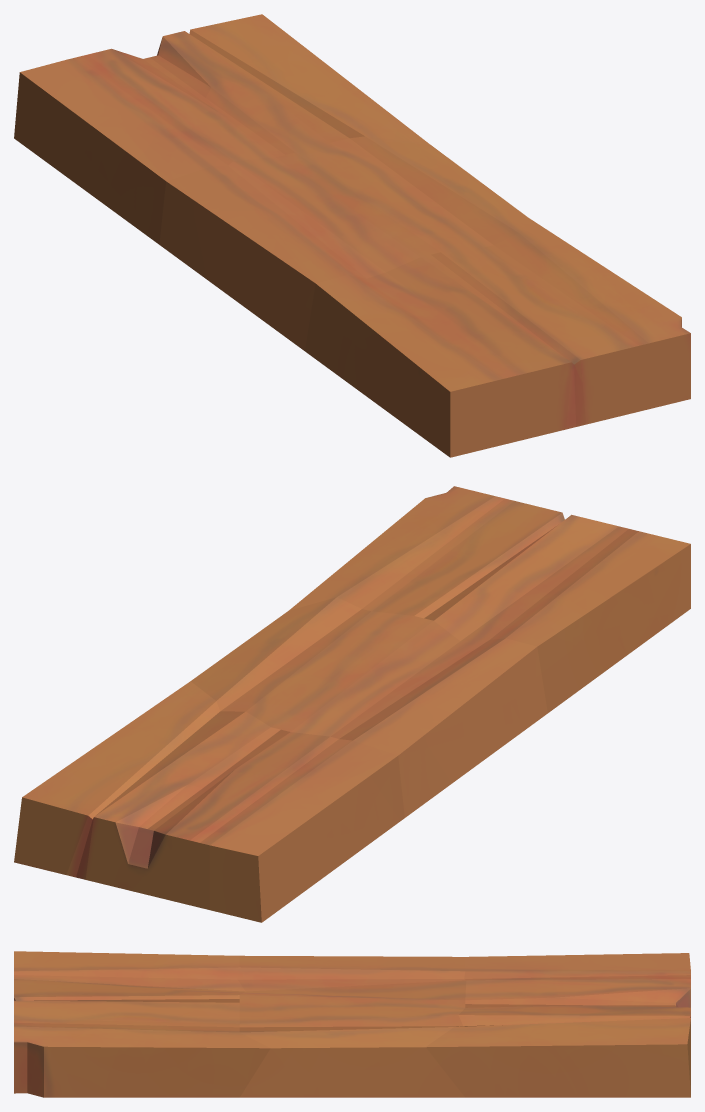
The model's file is PlanchaMadera1.fbx.
3 views of the same model, one above another, from view 1: azimuth 30°, elevation 25°; view 2: azimuth 150°, elevation 25°; view 3: azimuth 270°, elevation 25° (orthographic). The views are drawn at different scales.
Parts seen in each view (by area): view 1: Plancha1; view 2: Plancha1; view 3: Plancha1.
Part boxes in pixels (<box>): Plancha1: <box>14,14,690,457</box>; Plancha1: <box>14,486,690,922</box>; Plancha1: <box>14,951,690,1097</box>.
Bounding box in the file's own units: 0.5 × 0.125 × 1.5.
1 material, 1 textured.
